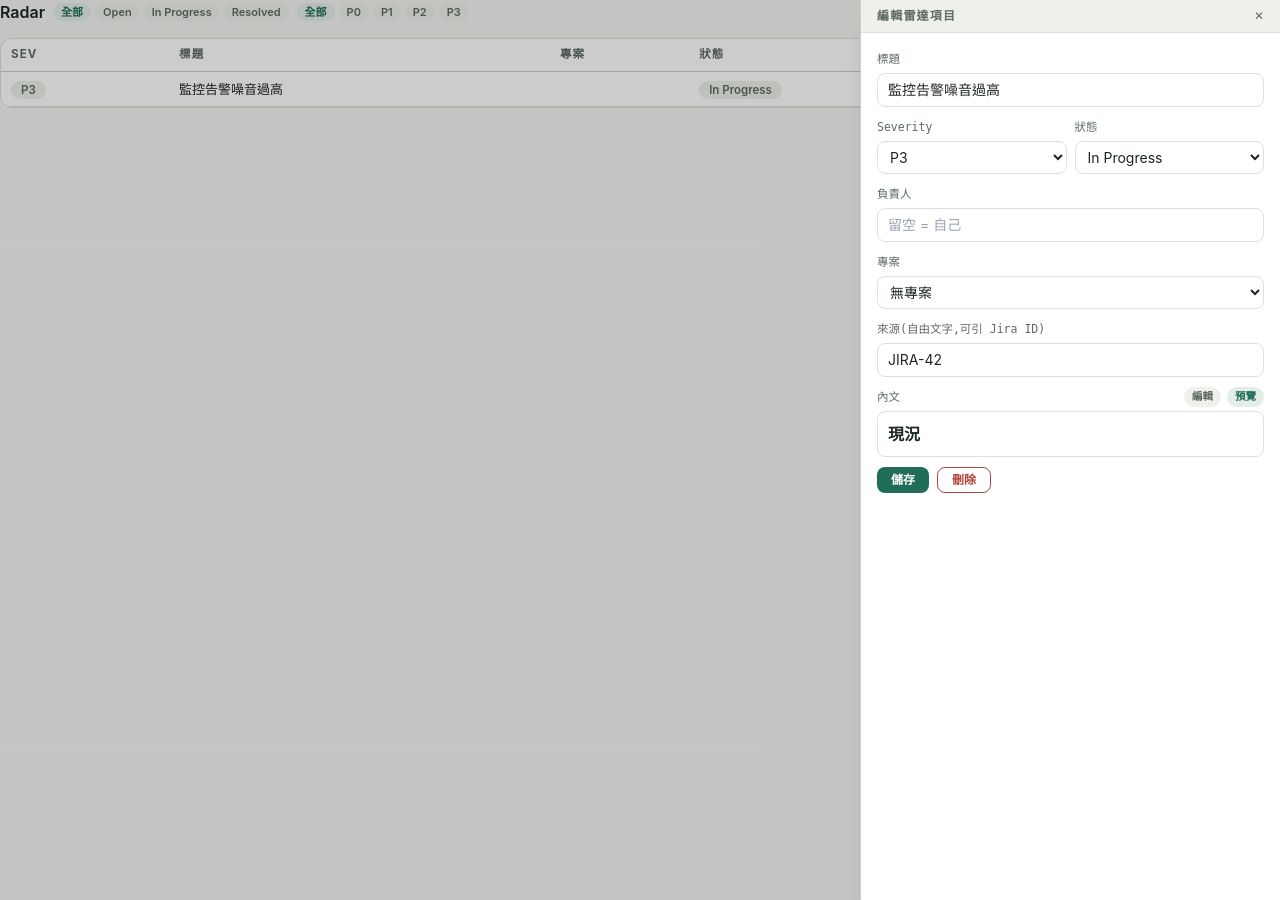
Test: Radar › reopens a saved item with the saved value, not the pre-save cache
Replace the text in the field labelled "標題" with "監控告警噪音已收斂" at x=1070, y=90, box [877,73,1264,107]
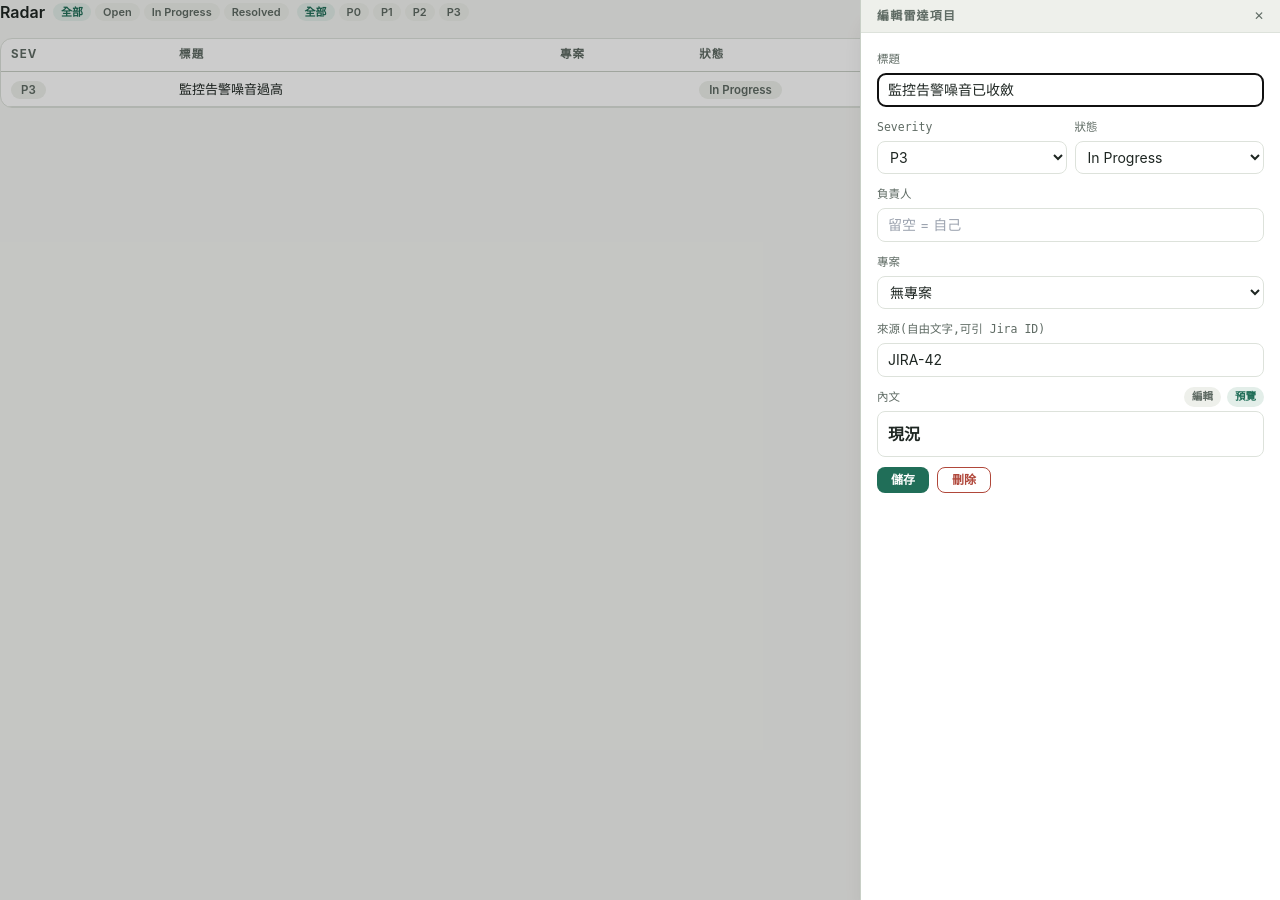
Click the button "儲存".
click(903, 480)  # box [877,467,929,493]
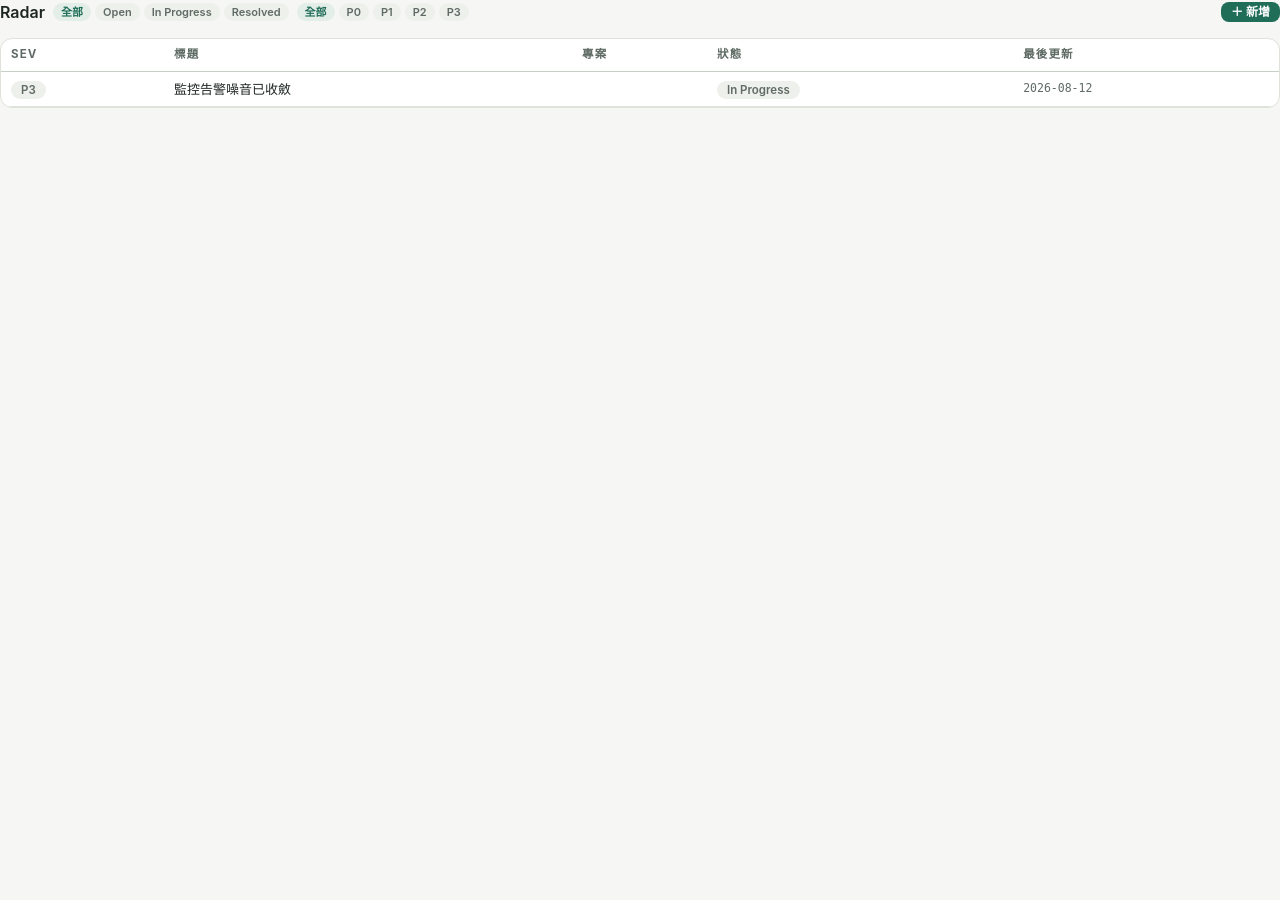
Check: the heading "編輯雷達項目" is gone
Click the text "監控告警噪音已收斂".
click(233, 89)  # box [164,71,572,106]
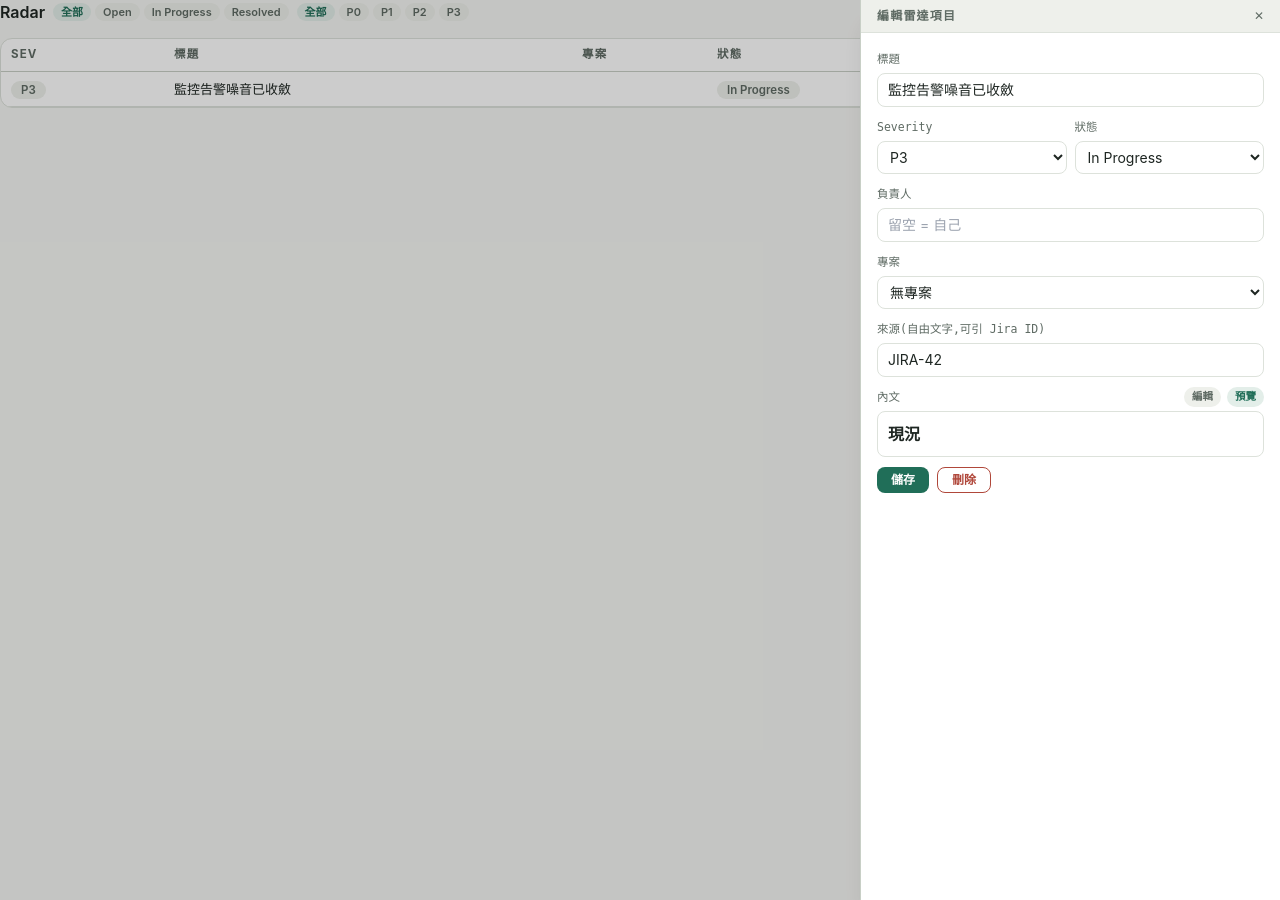
Check: the field showing "監控告警噪音已收斂" is shown, box [877,73,1264,107]
